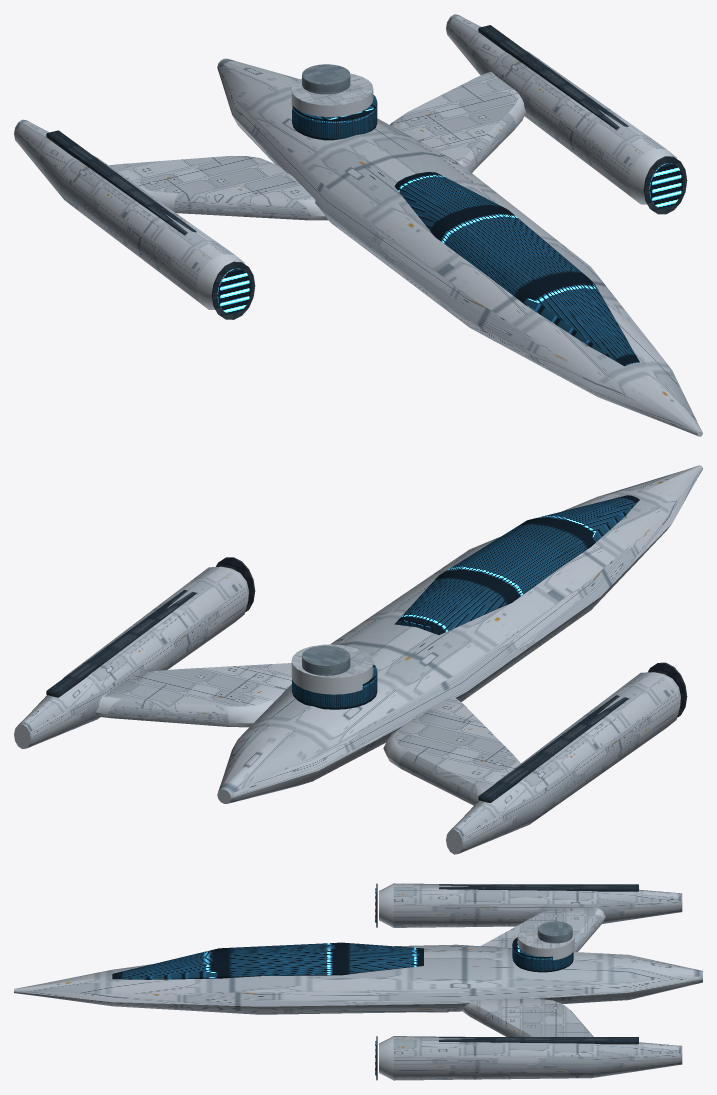
Rendered from alliance_courier_dock_probe.glb.
3 views of the same model, one above another, from view 1: azimuth 30°, elevation 25°; view 2: azimuth 150°, elevation 25°; view 3: azimuth 270°, elevation 25° (orthographic). The views are drawn at different scales.
Visible parts, largest first — view 1: alliance_courier_lod_source; view 2: alliance_courier_lod_source; view 3: alliance_courier_lod_source.
Part boxes in pixels (x1,y1,x2,y2): alliance_courier_lod_source: [14, 14, 702, 436]; alliance_courier_lod_source: [14, 465, 702, 854]; alliance_courier_lod_source: [14, 883, 702, 1080].
Size of the model in its own units: 1.11 by 0.2295 by 1.89.
1 material, 1 textured.
